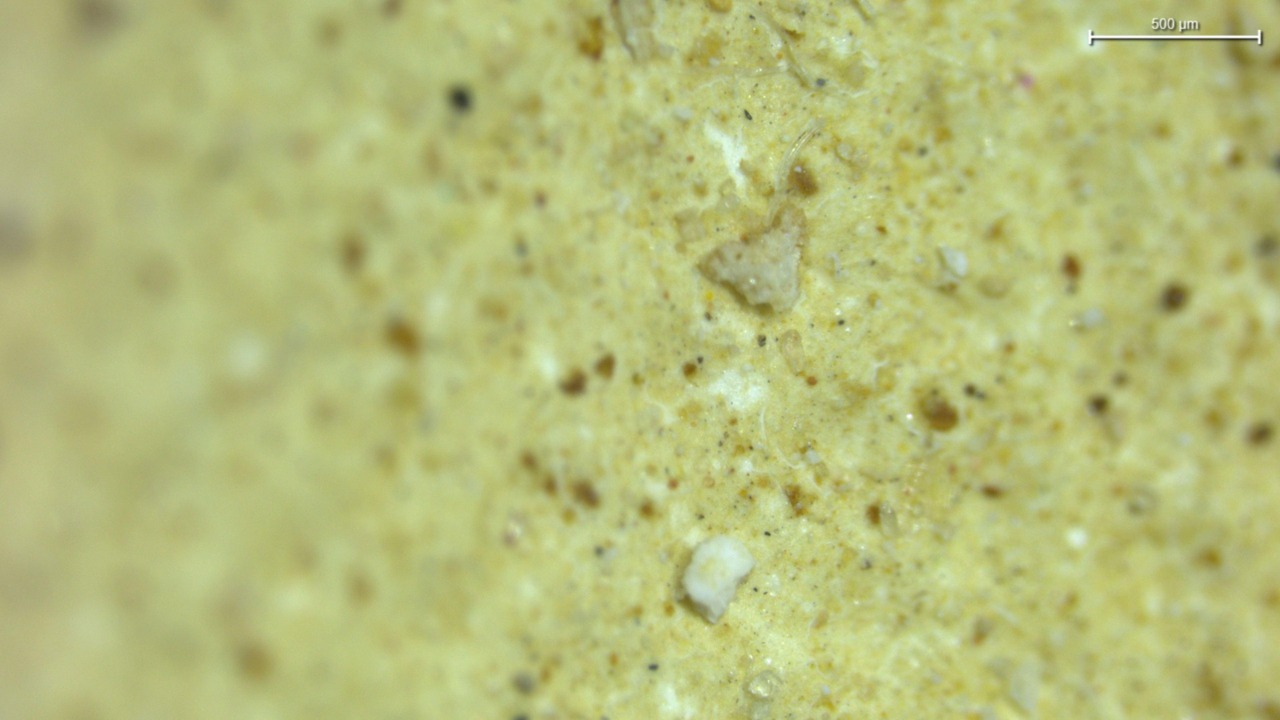microplastic_fragment: (702, 210, 807, 307), (677, 528, 761, 629)
